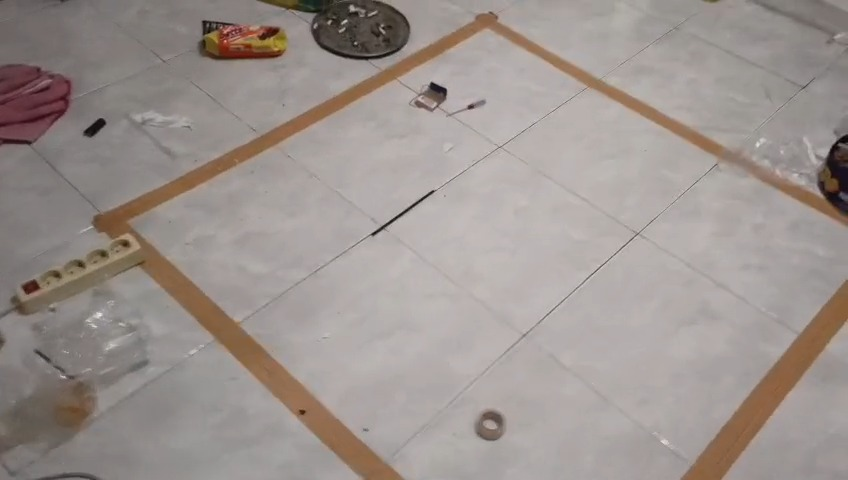floor marking: (93, 12, 847, 479), (681, 280, 847, 479)
